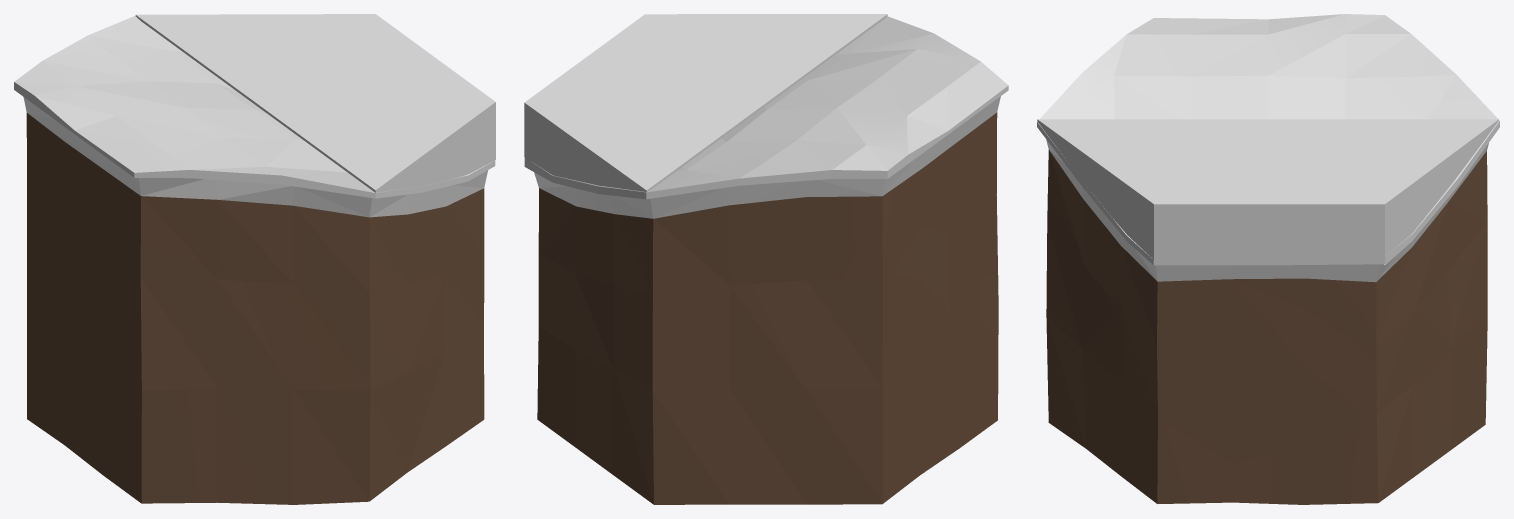
The model's file is tudoAgua.fbx.
The picture shows the model from 3 angles, left to right: view 1: azimuth 30°, elevation 25°; view 2: azimuth 150°, elevation 25°; view 3: azimuth 270°, elevation 25°; orthographic projection. The views are drawn at different scales.
Parts seen in each view (by area): view 1: hexagonTile-land02, Cube; view 2: hexagonTile-land02, Cube; view 3: hexagonTile-land02, Cube.
Part boxes in pixels (bbox=[...]): hexagonTile-land02: bbox=[14, 16, 495, 504]; Cube: bbox=[135, 14, 495, 192]; hexagonTile-land02: bbox=[524, 16, 1008, 504]; Cube: bbox=[524, 14, 887, 191]; hexagonTile-land02: bbox=[1037, 14, 1499, 504]; Cube: bbox=[1037, 119, 1498, 262].
Size of the model in its own units: 1500 by 1344 by 1729.
